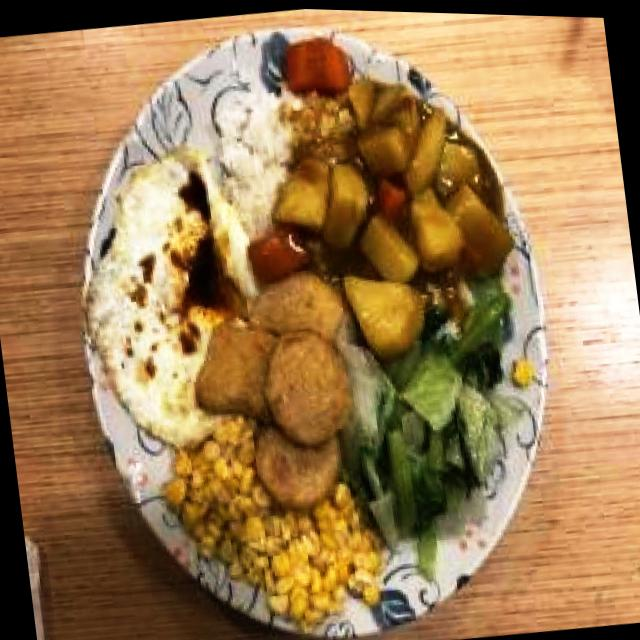chicken_nuggets: (184, 267, 362, 515)
chinese_cabbage: (355, 279, 537, 577)
curry: (223, 13, 520, 350)
fried_eggs: (67, 143, 272, 462)
rice: (216, 90, 308, 243)
